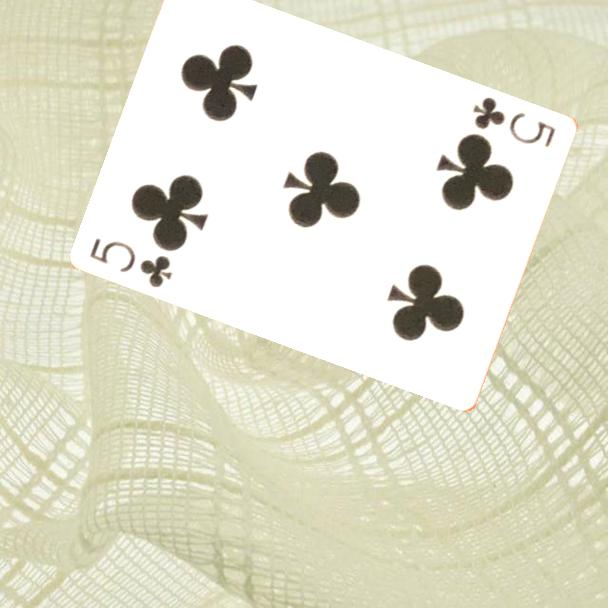c05: (470, 93, 559, 150), (87, 234, 176, 290)
